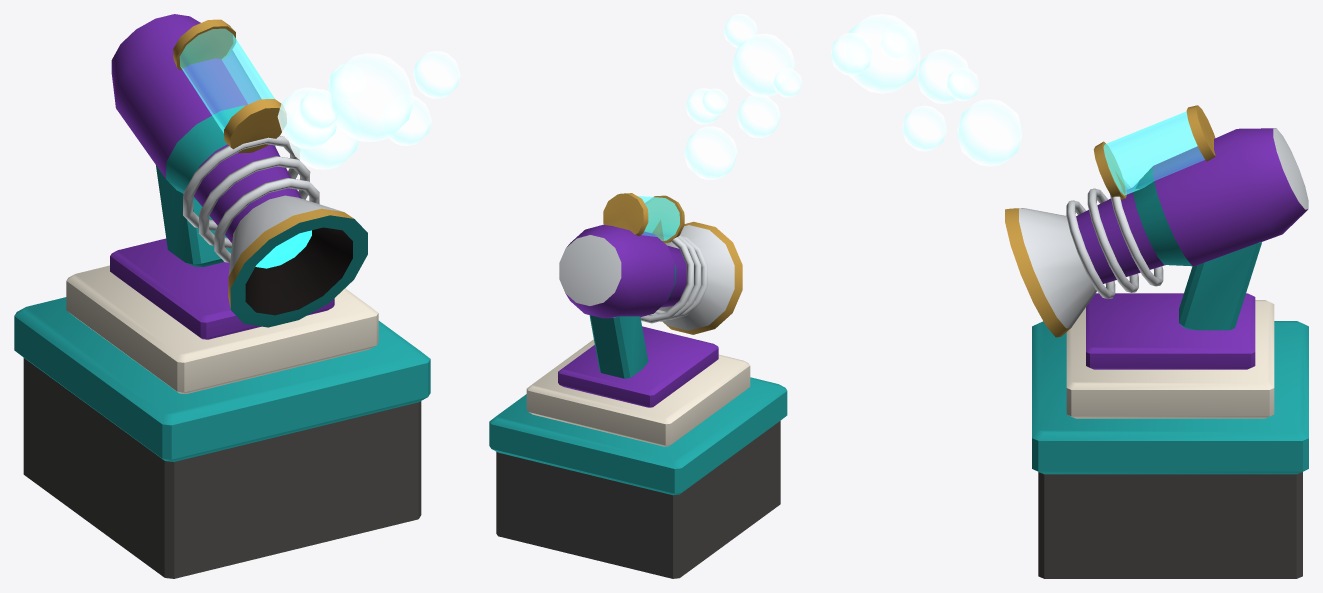
File: prop_sudsblaster.glb
3 views of the same model, side by side, from view 1: azimuth 30°, elevation 25°; view 2: azimuth 150°, elevation 25°; view 3: azimuth 270°, elevation 25° (orthographic). The views are drawn at different scales.
Parts seen in each view (by area): view 1: body; view 2: body; view 3: body.
Boxes of the visible parts, <box> form: body: <box>14,14,460,578</box>; body: <box>489,14,802,578</box>; body: <box>831,14,1308,578</box>.
Size of the model in its own units: 3.6 by 7.23 by 6.22.
